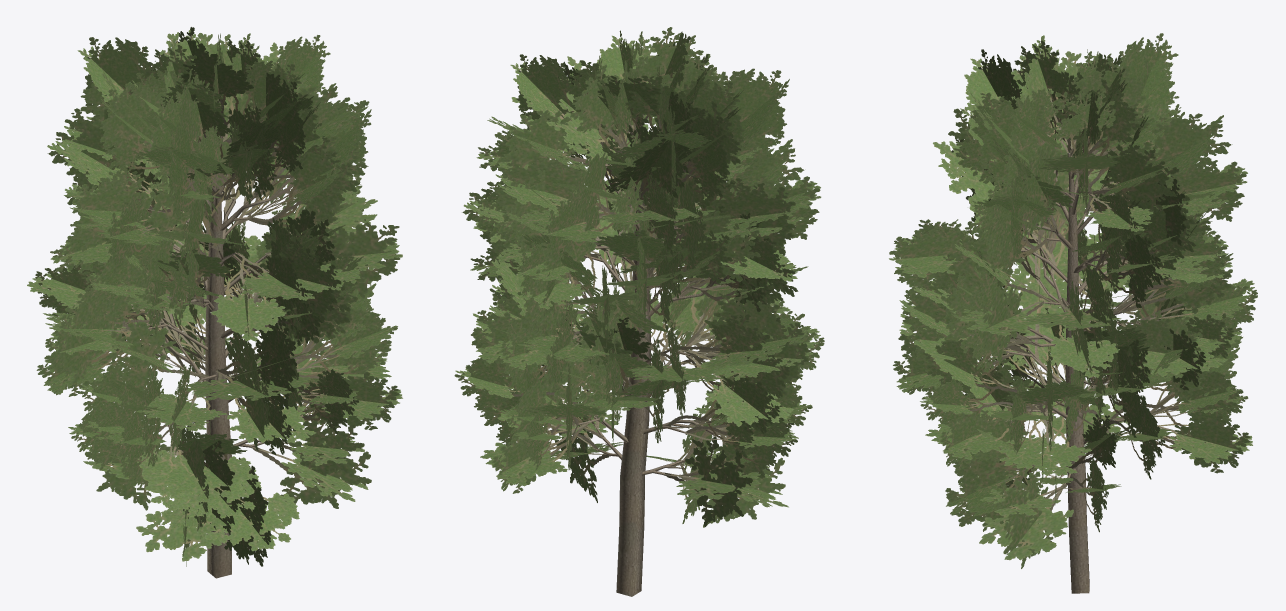
Rendered from CaryaOvalis.glb.
3 renders of one model, left to right at view 1: azimuth 30°, elevation 25°; view 2: azimuth 150°, elevation 25°; view 3: azimuth 270°, elevation 25°, orthographic. The views are drawn at different scales.
Visible parts, largest first — view 1: Red_Hickory__Realistic_LOD3; view 2: Red_Hickory__Realistic_LOD3; view 3: Red_Hickory__Realistic_LOD3.
Part boxes in pixels (box(x1,y1,x2,y2)): Red_Hickory__Realistic_LOD3: box(27, 27, 402, 578); Red_Hickory__Realistic_LOD3: box(454, 27, 824, 596); Red_Hickory__Realistic_LOD3: box(889, 33, 1257, 593).
Size of the model in its own units: 11.51 by 17.31 by 11.54.
Materials: 1 (1 with a texture image).
